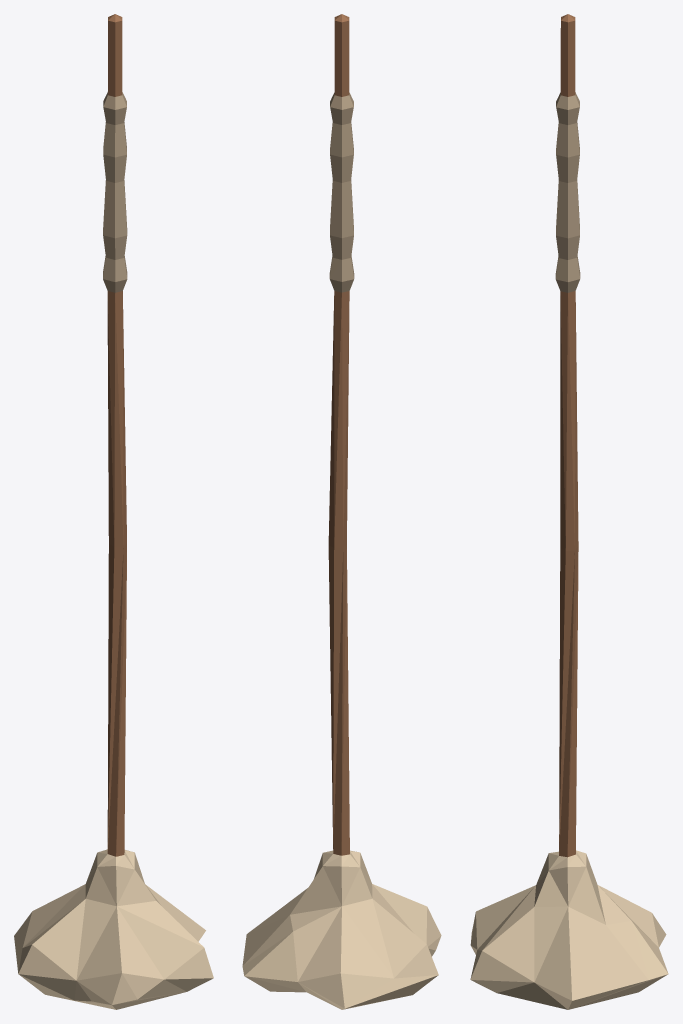
Rendered from SM_Prop_Scrub_Mop_01.glb.
3 views of the same model, side by side, from view 1: azimuth 30°, elevation 25°; view 2: azimuth 150°, elevation 25°; view 3: azimuth 270°, elevation 25° (orthographic).
Visible parts, largest first — view 1: SM_Prop_Scrub_Mop_01_part00; view 2: SM_Prop_Scrub_Mop_01_part00; view 3: SM_Prop_Scrub_Mop_01_part00.
Boxes of the visible parts, <box> form: SM_Prop_Scrub_Mop_01_part00: <box>14,14,213,1009</box>; SM_Prop_Scrub_Mop_01_part00: <box>242,14,441,1009</box>; SM_Prop_Scrub_Mop_01_part00: <box>470,14,668,1009</box>.
Bounding box in the file's own units: 0.3783 × 1.83 × 0.3414.
Materials: 1 (1 with a texture image).
